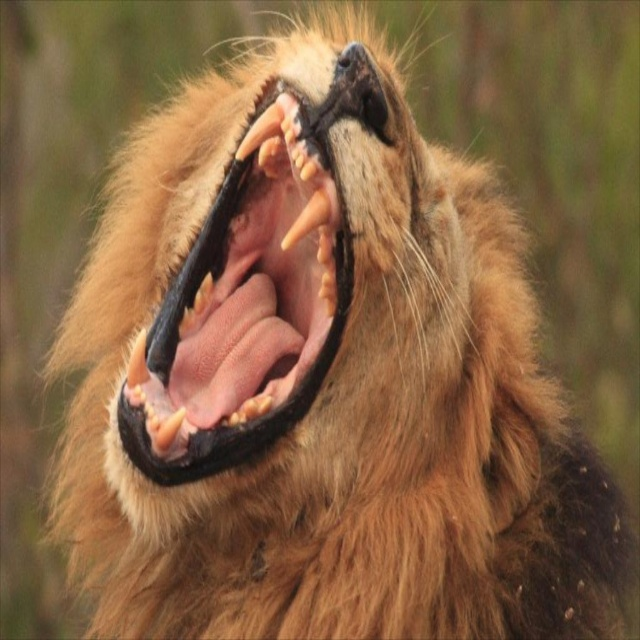Lion: (26, 0, 640, 640)
